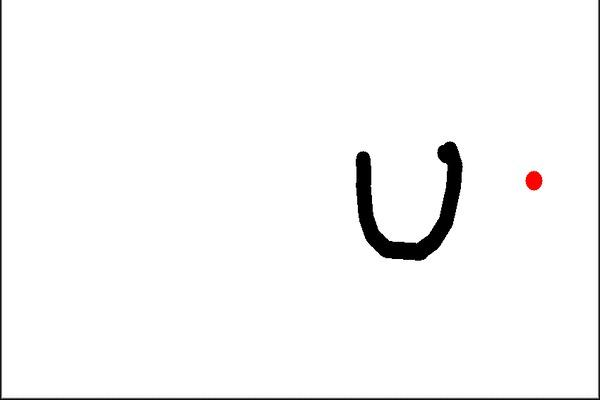U: (348, 129, 472, 261)
